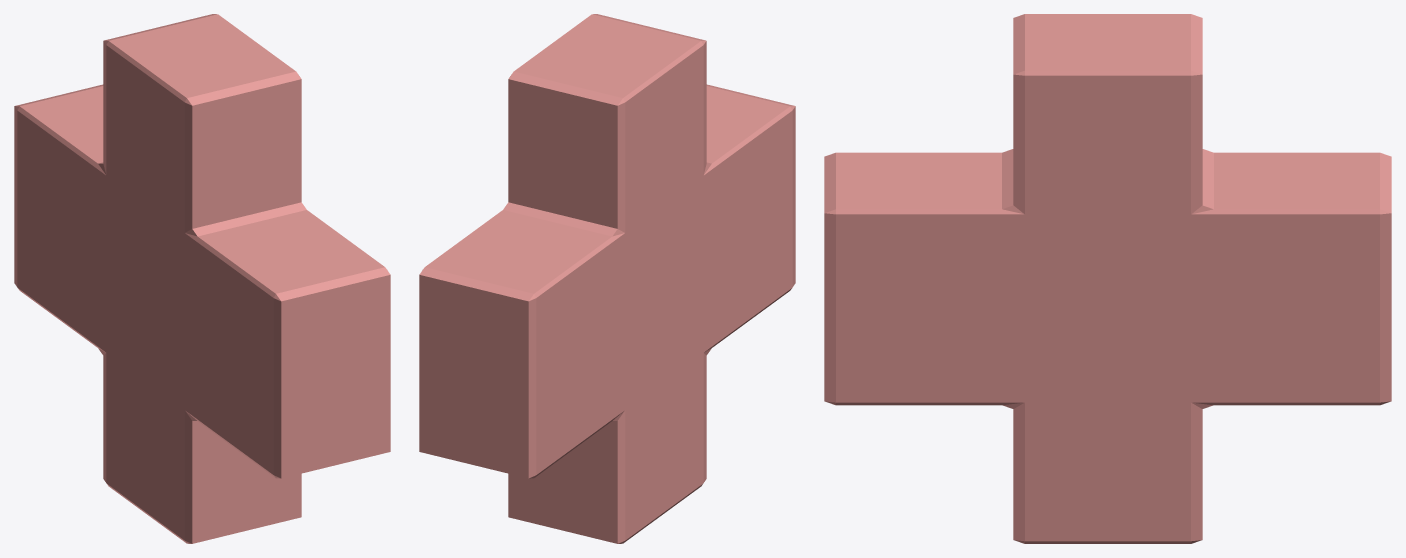
Rendered from Health.fbx.
The picture shows the model from 3 angles, left to right: view 1: azimuth 30°, elevation 25°; view 2: azimuth 150°, elevation 25°; view 3: azimuth 270°, elevation 25°; orthographic projection. The views are drawn at different scales.
Parts seen in each view (by area): view 1: Cube; view 2: Cube; view 3: Cube.
Part boxes in pixels (x1=…): Cube: x1=14, y1=14, x2=390, y2=543; Cube: x1=419, y1=14, x2=795, y2=543; Cube: x1=824, y1=14, x2=1391, y2=543.
Bounding box in the file's own units: 56.15 × 210 × 228.
